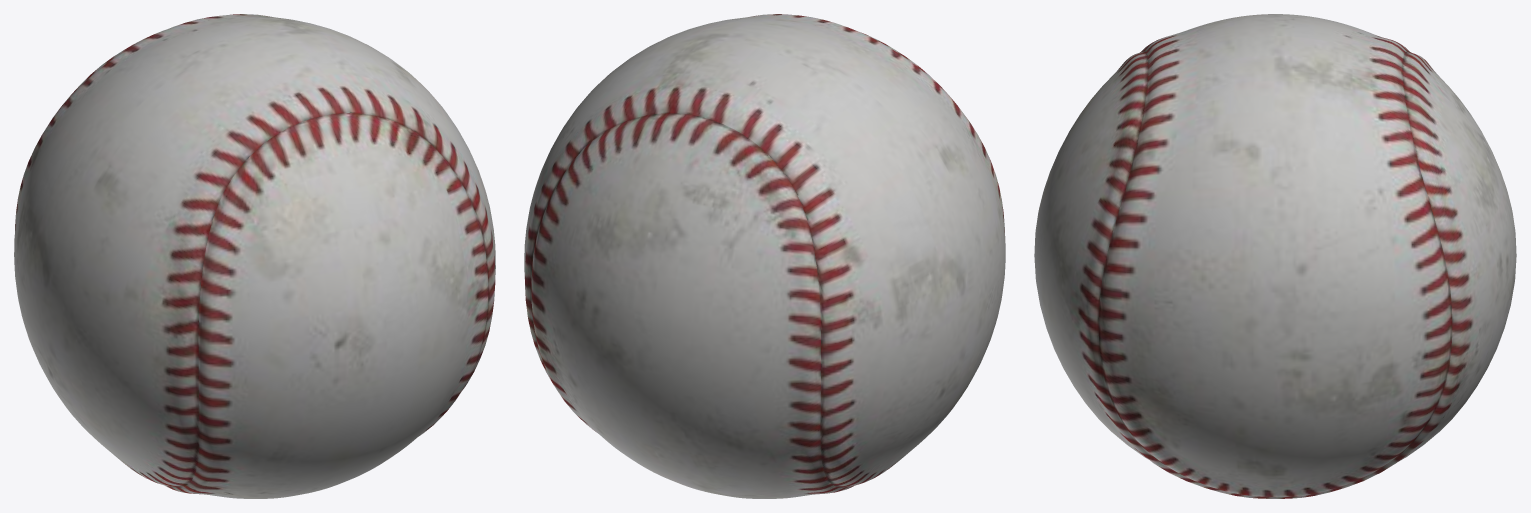
The model's file is ball.glb.
The picture shows the model from 3 angles, left to right: view 1: azimuth 30°, elevation 25°; view 2: azimuth 150°, elevation 25°; view 3: azimuth 270°, elevation 25°; orthographic projection.
Parts seen in each view (by area): view 1: baseball_01; view 2: baseball_01; view 3: baseball_01.
Part boxes in pixels (x1,y1,x2,y2): baseball_01: (14,14,495,498); baseball_01: (524,14,1005,498); baseball_01: (1034,14,1516,498).
Bounding box in the file's own units: 0.0735 × 0.0752 × 0.0753.
1 material, 1 textured.
